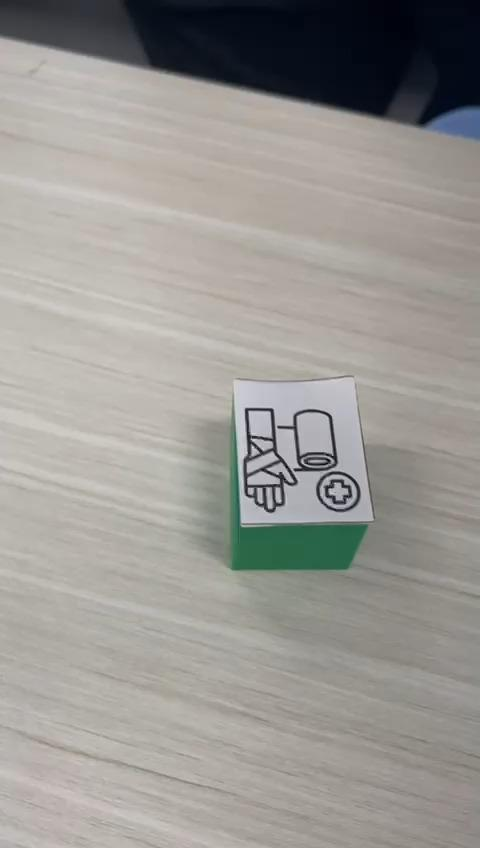Bandages: (229, 375, 373, 570)
